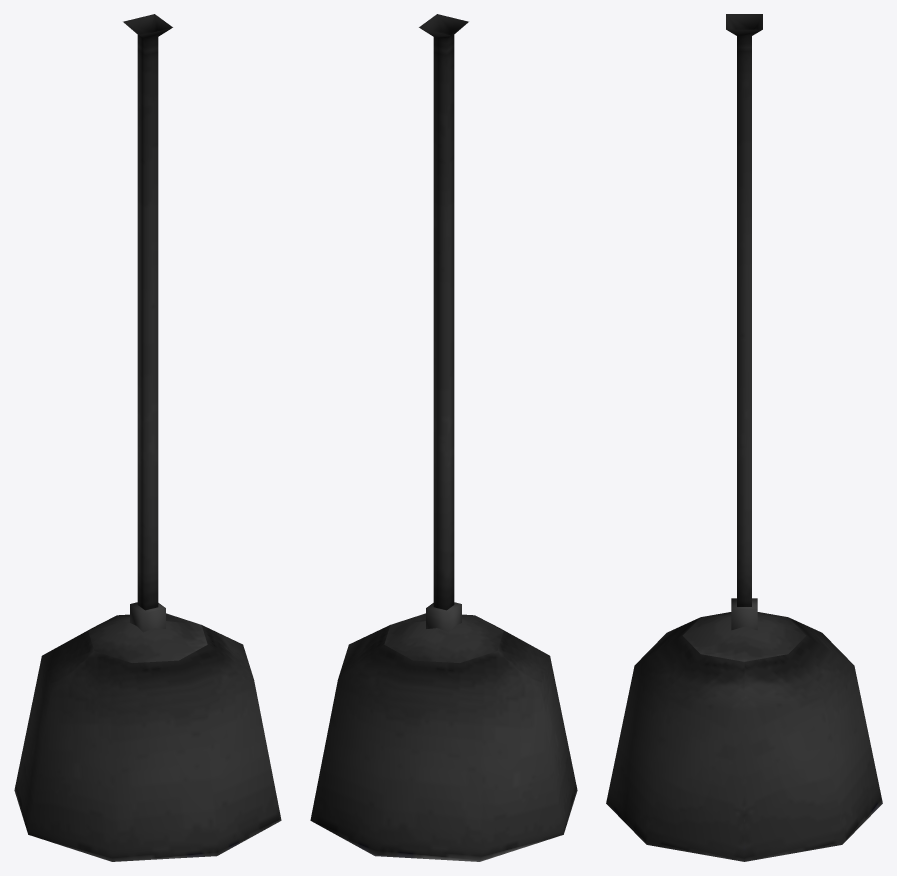
File: Lamp.fbx
3 renders of one model, left to right at view 1: azimuth 30°, elevation 25°; view 2: azimuth 150°, elevation 25°; view 3: azimuth 270°, elevation 25°, orthographic.
Parts seen in each view (by area): view 1: Lamp; view 2: Lamp; view 3: Lamp.
Boxes of the visible parts, <box> form: Lamp: <box>14,14,281,861</box>; Lamp: <box>310,14,577,861</box>; Lamp: <box>606,14,882,861</box>.
Size of the model in its own units: 0.408 by 1.27 by 0.408.
